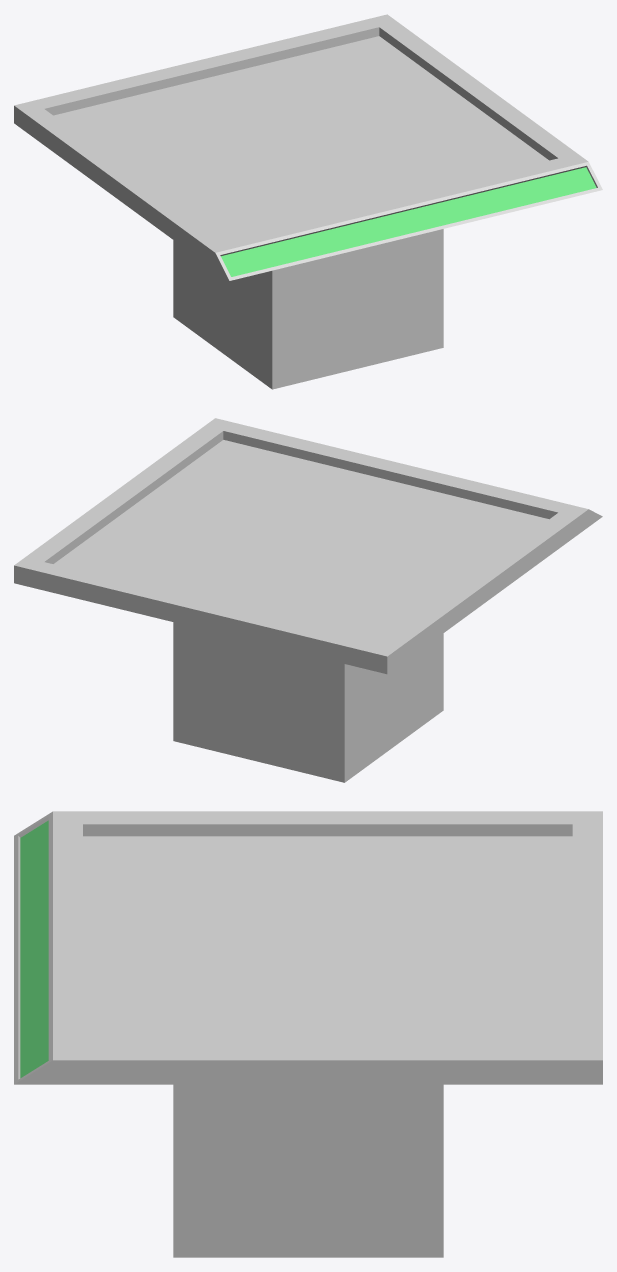
File: ObjectPodium.fbx
3 renders of one model, top to bottom at view 1: azimuth 30°, elevation 25°; view 2: azimuth 150°, elevation 25°; view 3: azimuth 270°, elevation 25°, orthographic. The views are drawn at different scales.
Parts seen in each view (by area): view 1: Cube.005; view 2: Cube.005; view 3: Cube.005.
Boxes of the visible parts, bbox=[...] form: Cube.005: bbox=[14, 14, 602, 389]; Cube.005: bbox=[14, 418, 602, 782]; Cube.005: bbox=[14, 811, 602, 1257].
Bounding box in the file's own units: 200 × 99.11 × 200.
